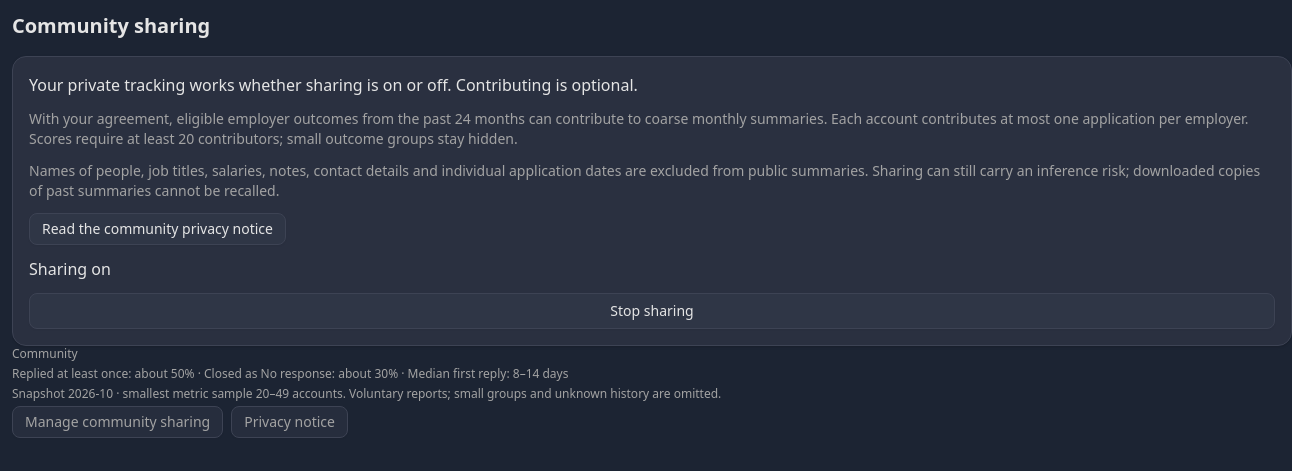
Test: community records › clears the current tab's downloaded summary when consent is withdrawn
Check: the text "Replied at least once" is shown, box [12, 365, 568, 382]
What coordinates should you click on to do the following:
click the button "Stop sharing"
I would click on:
 (652, 311)
Its box is [29, 293, 1275, 329].
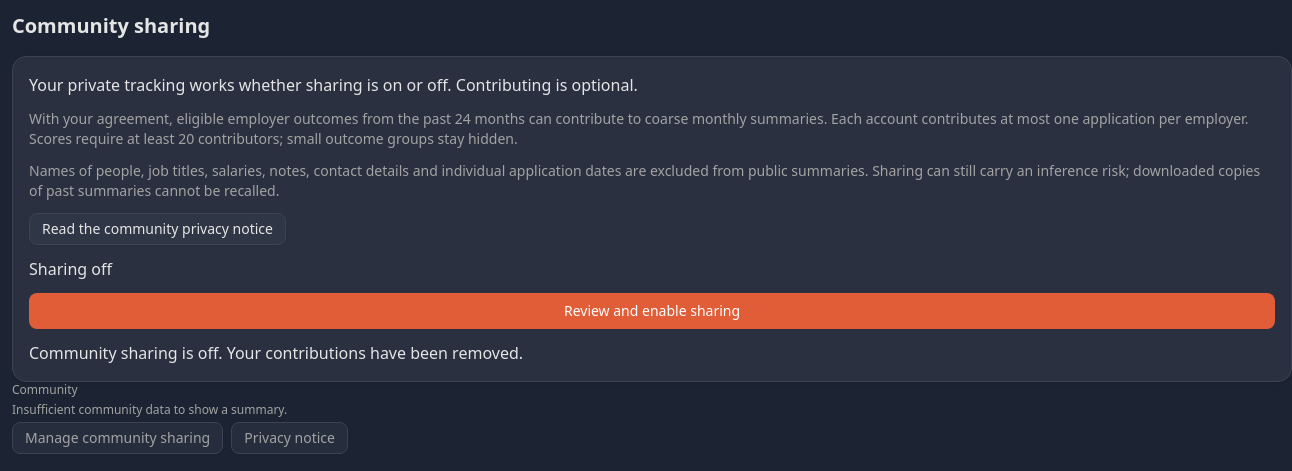
Check: the text "Insufficient community data to show a summary." is shown, box [12, 401, 287, 418]
Check: the text "Replied at least once" is gone
